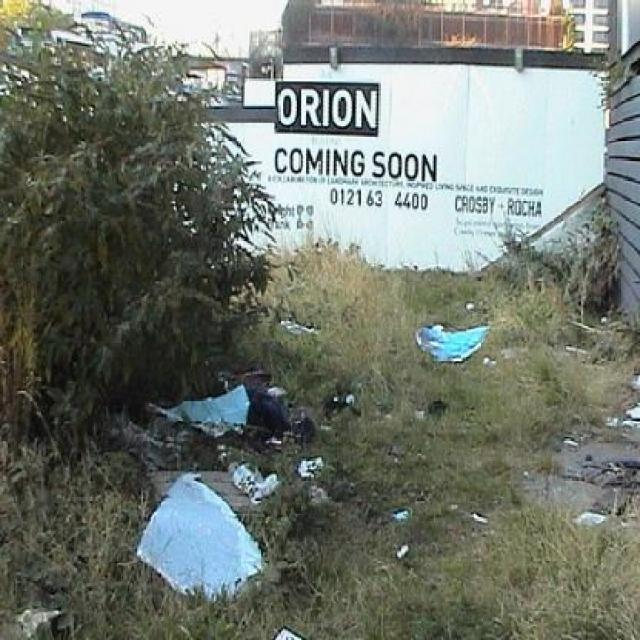garbage: (161, 372, 324, 476), (137, 475, 266, 590), (408, 320, 495, 368), (620, 373, 639, 523)
